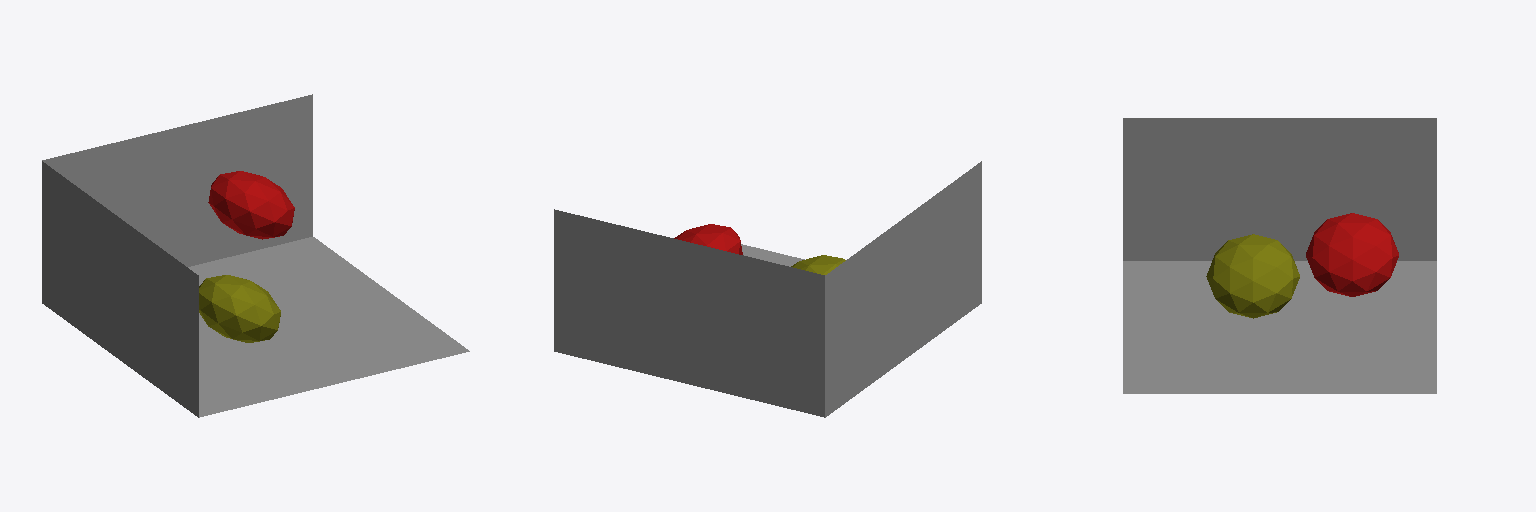
3 renders of one model, left to right at view 1: azimuth 30°, elevation 25°; view 2: azimuth 150°, elevation 25°; view 3: azimuth 270°, elevation 25°, orthographic.
Visible parts, largest first — view 1: floor_Plane.003, wall_Plane.005, mirror_Plane.004, Icosphere.001, Icosphere; view 2: wall_Plane.005, mirror_Plane.004, Icosphere.001, Icosphere, floor_Plane.003; view 3: mirror_Plane.004, floor_Plane.003, Icosphere.001, Icosphere.
Part boxes in pixels (x1,y1,x2,y2): floor_Plane.003: (188, 237, 469, 417); wall_Plane.005: (42, 94, 312, 266); mirror_Plane.004: (42, 161, 198, 417); Icosphere.001: (208, 171, 294, 239); Icosphere: (199, 275, 280, 342); wall_Plane.005: (554, 209, 824, 417); mirror_Plane.004: (825, 161, 981, 417); Icosphere.001: (674, 224, 742, 254); Icosphere: (791, 255, 845, 274); floor_Plane.003: (741, 244, 804, 266); mirror_Plane.004: (1123, 118, 1436, 260); floor_Plane.003: (1123, 261, 1436, 393); Icosphere.001: (1306, 213, 1398, 296); Icosphere: (1206, 234, 1299, 318).
Bounding box in the file's own units: 2 × 1 × 2.